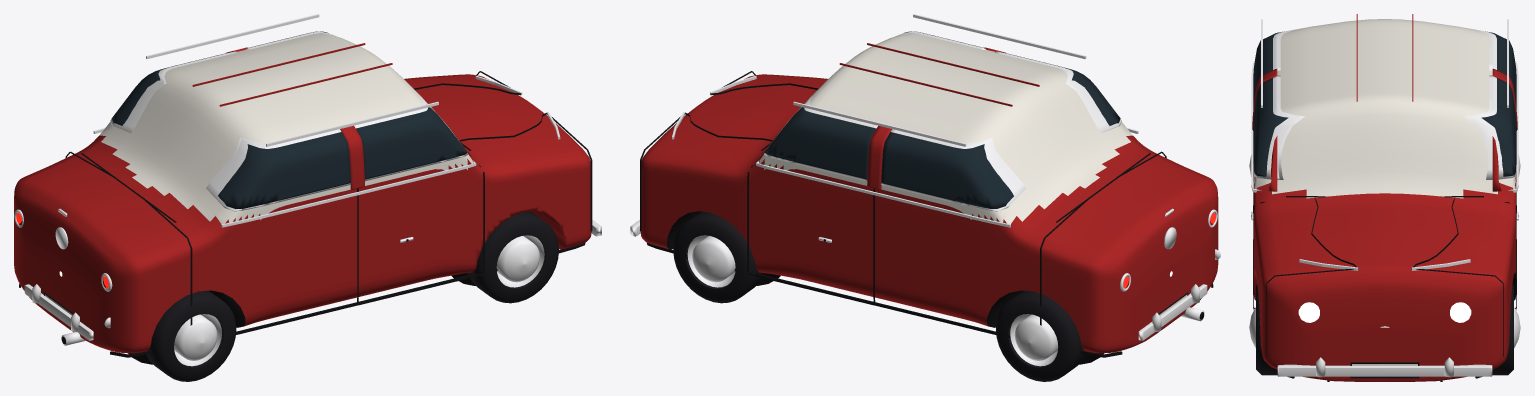
Rendered from t1_cooker.glb.
3 renders of one model, left to right at view 1: azimuth 30°, elevation 25°; view 2: azimuth 150°, elevation 25°; view 3: azimuth 270°, elevation 25°, orthographic. The views are drawn at different scales.
Visible parts, largest first — view 1: paint_00, paint2_00, glass_01, glass_00, tyre_03, tyre_01, chrome_06, chrome_23, chrome_25, trim_46, chrome_37, paint_06 (+6 smaller); view 2: paint_00, paint2_00, glass_01, glass_00, tyre_02, tyre_00, chrome_06, chrome_22, chrome_24, trim_45, chrome_36, paint_05 (+7 smaller); view 3: paint_00, paint2_00, glass_00, chrome_05, chrome_02, glass_01, chrome_06, tyre_00, tyre_01, chrome_36, chrome_37, lamp_00 (+7 smaller).
Boxes of the visible parts, x1,y1,x2,y2 form: paint_00: [14, 74, 591, 353]; paint2_00: [99, 33, 473, 224]; glass_01: [111, 52, 350, 209]; glass_00: [248, 31, 467, 179]; tyre_03: [146, 290, 236, 381]; tyre_01: [468, 211, 558, 303]; chrome_06: [110, 51, 350, 211]; chrome_23: [496, 236, 539, 282]; chrome_25: [174, 314, 217, 360]; trim_46: [110, 242, 585, 357]; chrome_37: [221, 160, 476, 227]; paint_06: [340, 125, 364, 189]; paint_00: [640, 74, 1218, 353]; paint2_00: [759, 33, 1132, 224]; glass_01: [881, 52, 1120, 208]; glass_00: [765, 31, 983, 179]; tyre_02: [996, 290, 1085, 381]; tyre_00: [673, 211, 764, 303]; chrome_06: [881, 51, 1121, 211]; chrome_22: [692, 236, 735, 282]; chrome_24: [1014, 314, 1058, 360]; trim_45: [647, 243, 1122, 357]; chrome_36: [756, 161, 1010, 227]; paint_05: [867, 125, 891, 189]; paint_00: [1253, 169, 1516, 381]; paint2_00: [1254, 19, 1515, 198]; glass_00: [1253, 78, 1516, 176]; chrome_05: [1254, 75, 1516, 179]; chrome_02: [1277, 364, 1492, 376]; glass_01: [1253, 31, 1516, 107]; chrome_06: [1273, 28, 1496, 70]; tyre_00: [1492, 284, 1513, 375]; tyre_01: [1256, 284, 1277, 375]; chrome_36: [1508, 62, 1518, 192]; chrome_37: [1251, 62, 1261, 192]; lamp_00: [1450, 302, 1471, 322].
Size of the model in its own units: 10.47 by 4.54 by 4.72.
